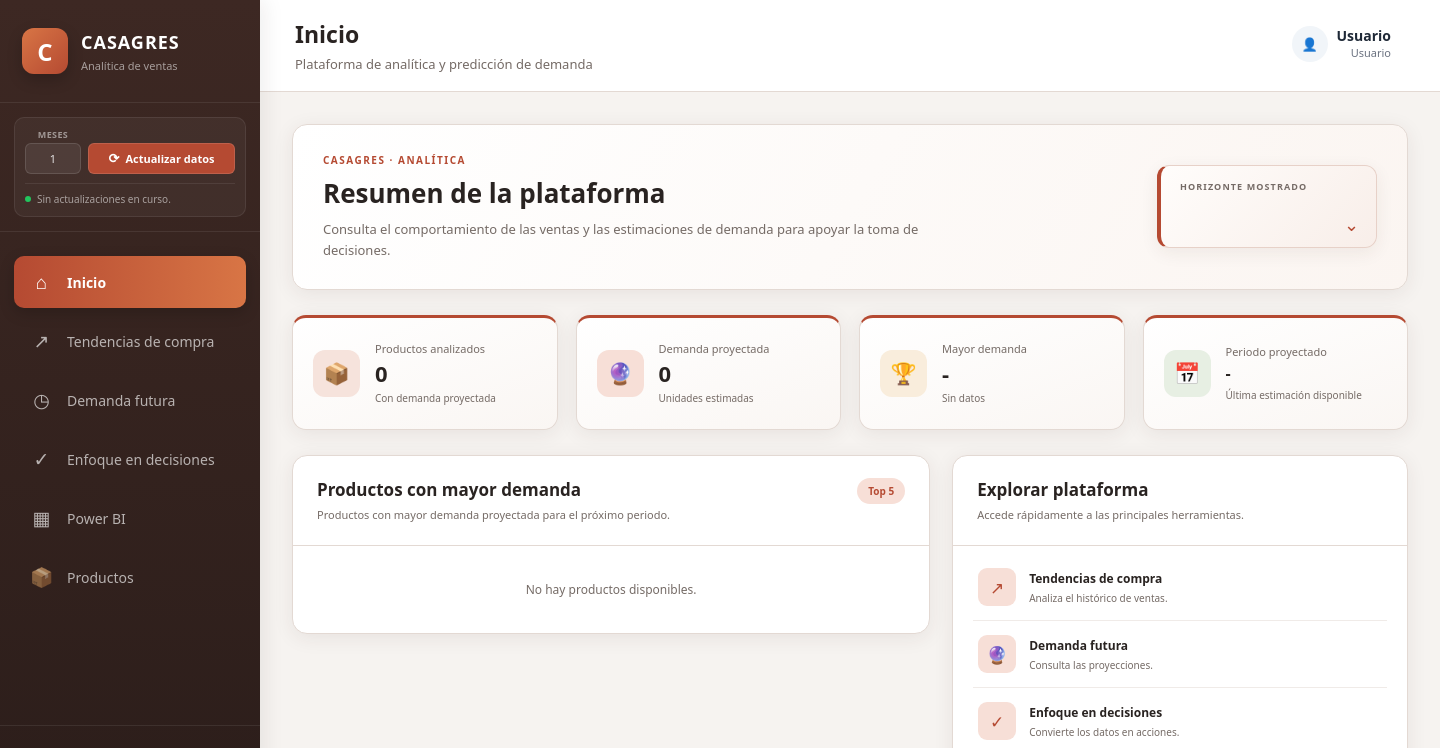
App › al hacer clic en el nombre del usuario, abre la pantalla de Mi perfil
The image size is (1440, 748).
Check: the text "Analítica de ventas" is shown, box [81,58,180,72]
Click the button "Usuario": (1364, 36) [1336,26,1391,45]
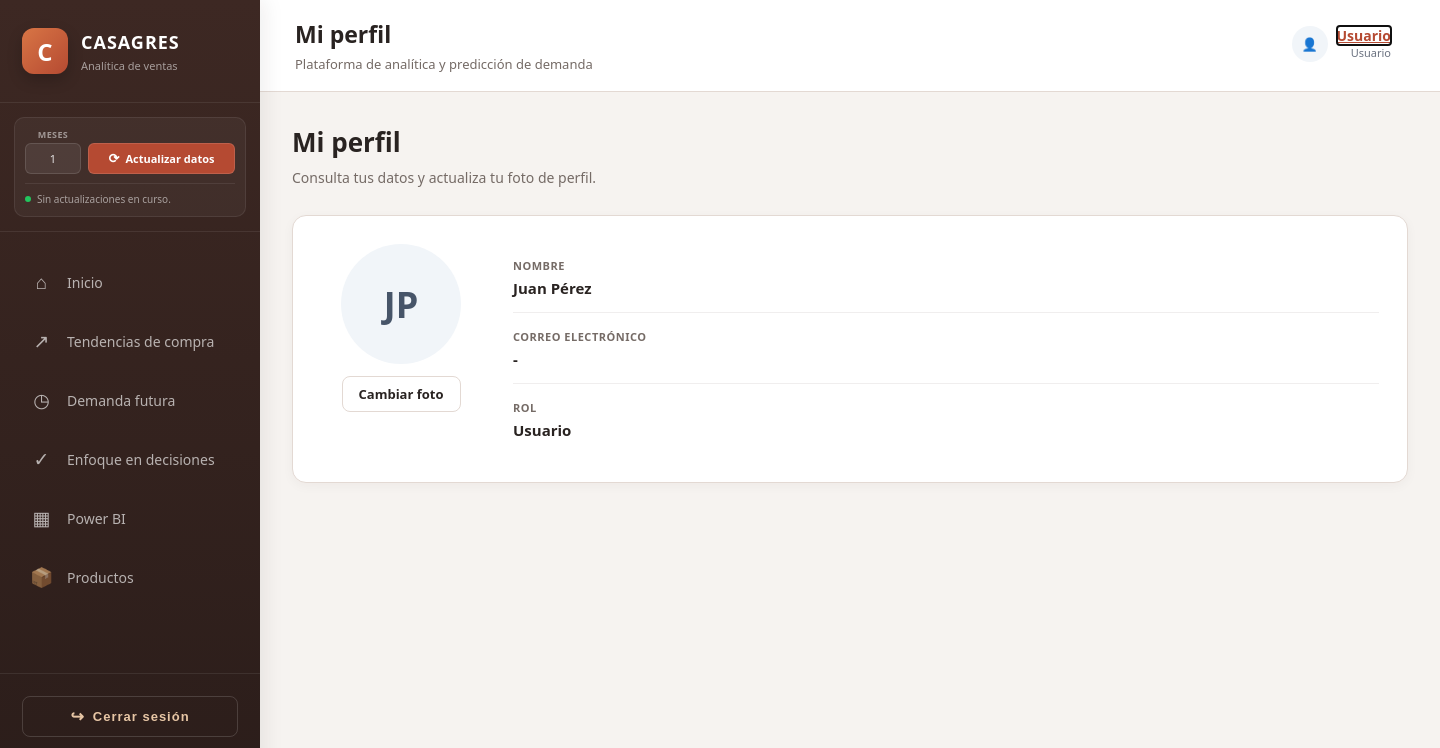
Check: the 2nd heading "Mi perfil" is shown, box [292,124,401,160]
